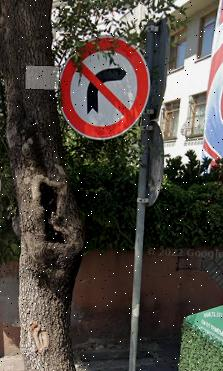rightturnsareforbidden: (63, 37, 144, 134)
